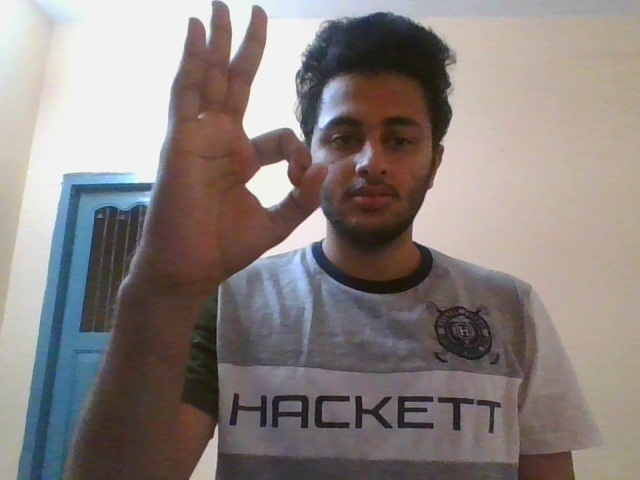Ok: (137, 1, 332, 319)
